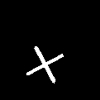single_crochet: (27, 47, 63, 82)
